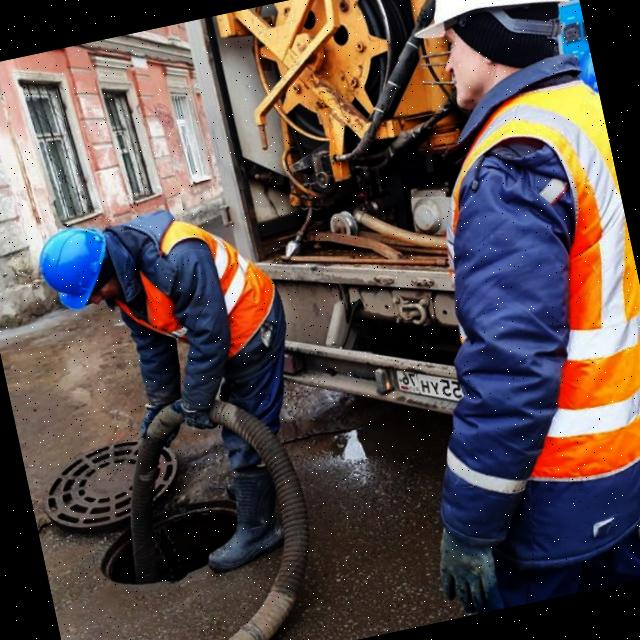Helmet: (31, 221, 120, 319), (403, 1, 572, 48)
Jacket: (431, 52, 640, 481), (107, 207, 274, 369)
